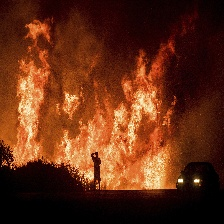fire: (56, 40, 178, 187), (14, 20, 41, 163), (53, 91, 80, 120)
